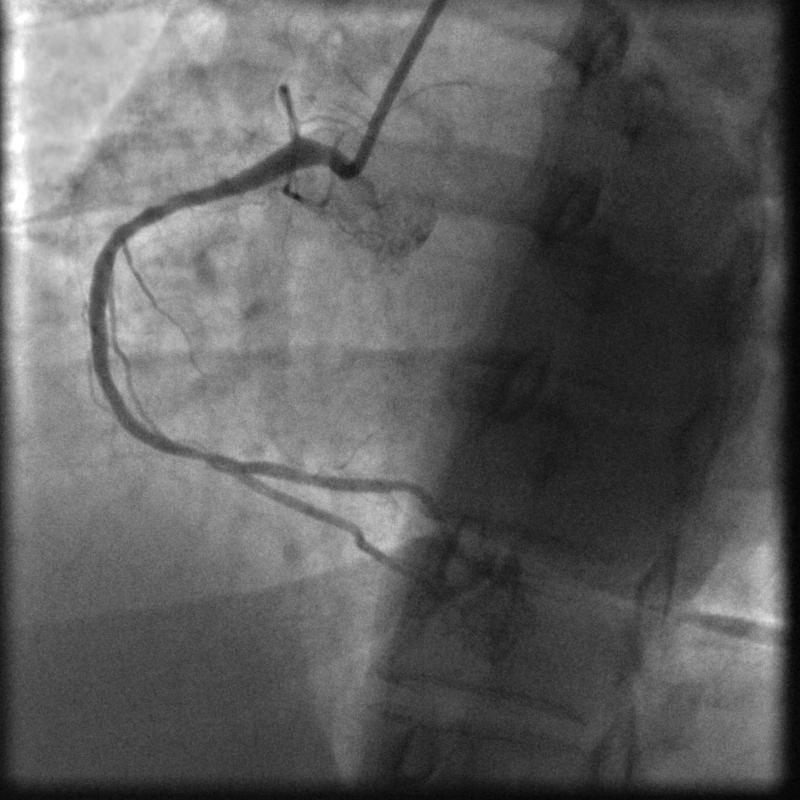Stenosis: (184, 438, 247, 484)
